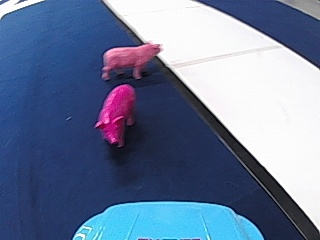pig: (93, 78, 134, 147), (99, 39, 158, 79)
